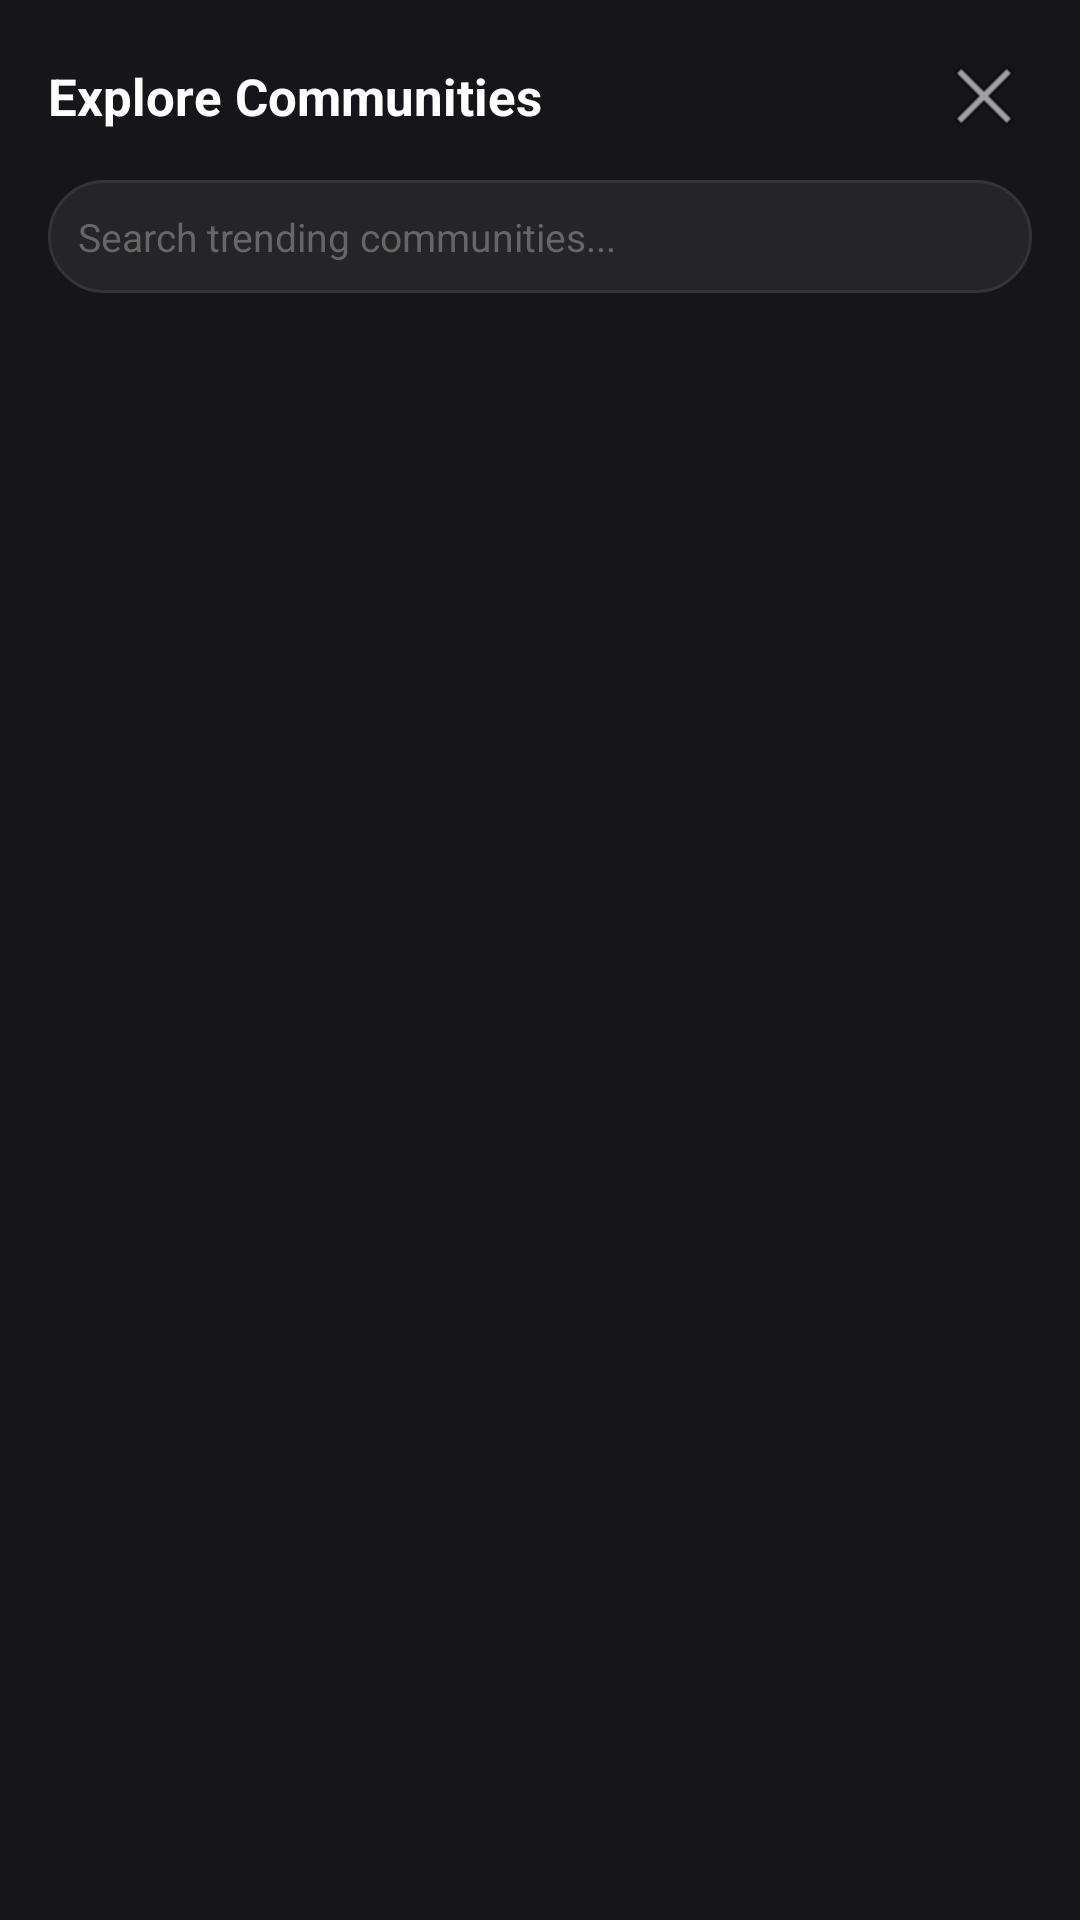

Icon click points for this 1080px×1920px phone screenshot, format (x,y):
Close: (984,96)
